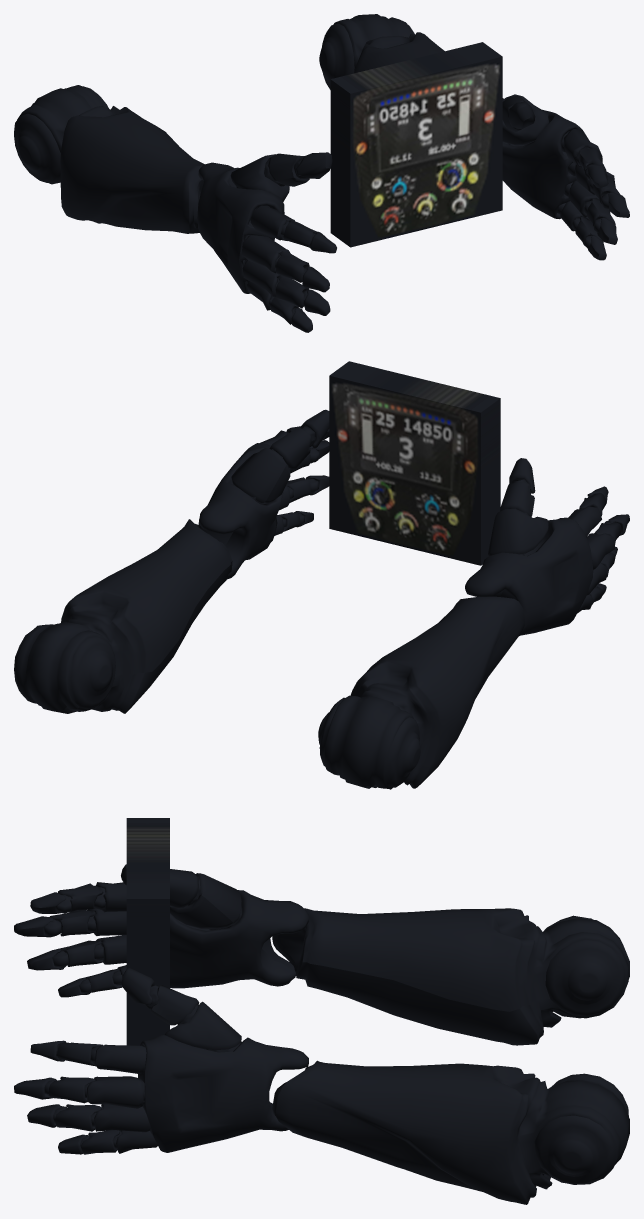
File: volante.fbx
3 views of the same model, one above another, from view 1: azimuth 30°, elevation 25°; view 2: azimuth 150°, elevation 25°; view 3: azimuth 270°, elevation 25° (orthographic). The views are drawn at different scales.
Visible parts, largest first — view 1: volante; view 2: volante; view 3: volante.
Part boxes in pixels (x1,y1,x2,y2): volante: (14, 14, 629, 332); volante: (14, 361, 629, 789); volante: (14, 818, 629, 1204).
Size of the model in its own units: 0.3712 by 0.2116 by 0.4595.
